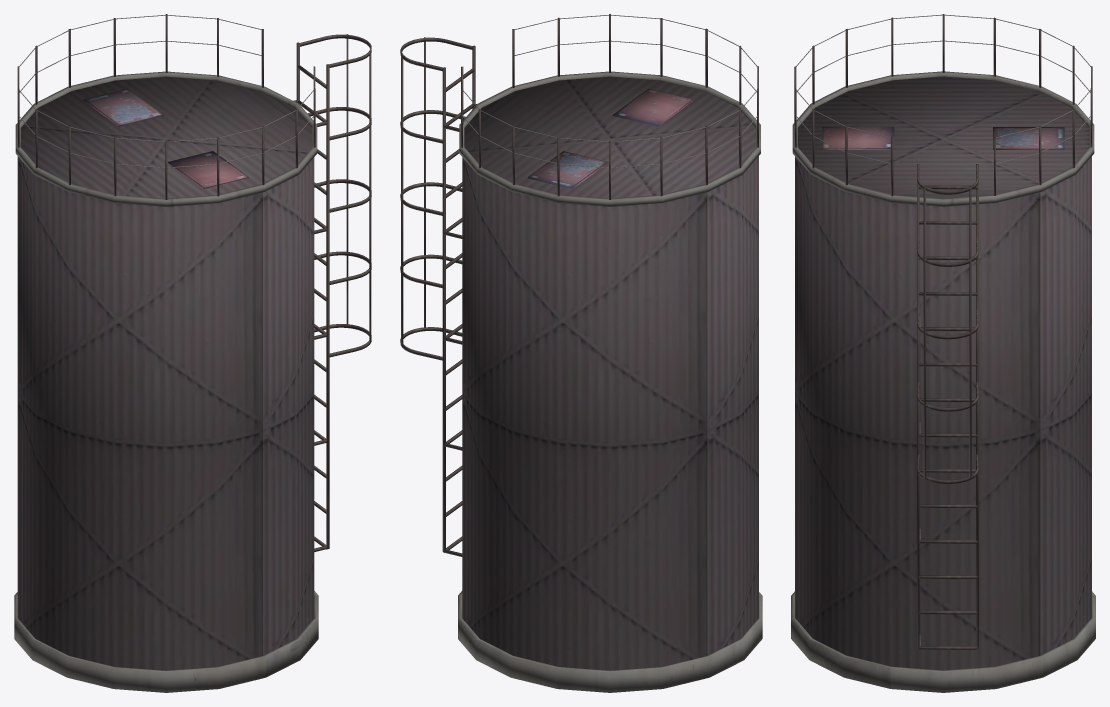
Rendered from Iron_Tank_1.glb.
3 views of the same model, side by side, from view 1: azimuth 30°, elevation 25°; view 2: azimuth 150°, elevation 25°; view 3: azimuth 270°, elevation 25° (orthographic).
Parts seen in each view (by area): view 1: Iron_Tank_1; view 2: Iron_Tank_1; view 3: Iron_Tank_1.
Part boxes in pixels (x1,y1,x2,y2): Iron_Tank_1: [14, 14, 371, 692]; Iron_Tank_1: [400, 14, 762, 692]; Iron_Tank_1: [791, 14, 1095, 692].
Bounding box in the file's own units: 7.21 × 11.22 × 5.64.
Materials: 1 (1 with a texture image).
